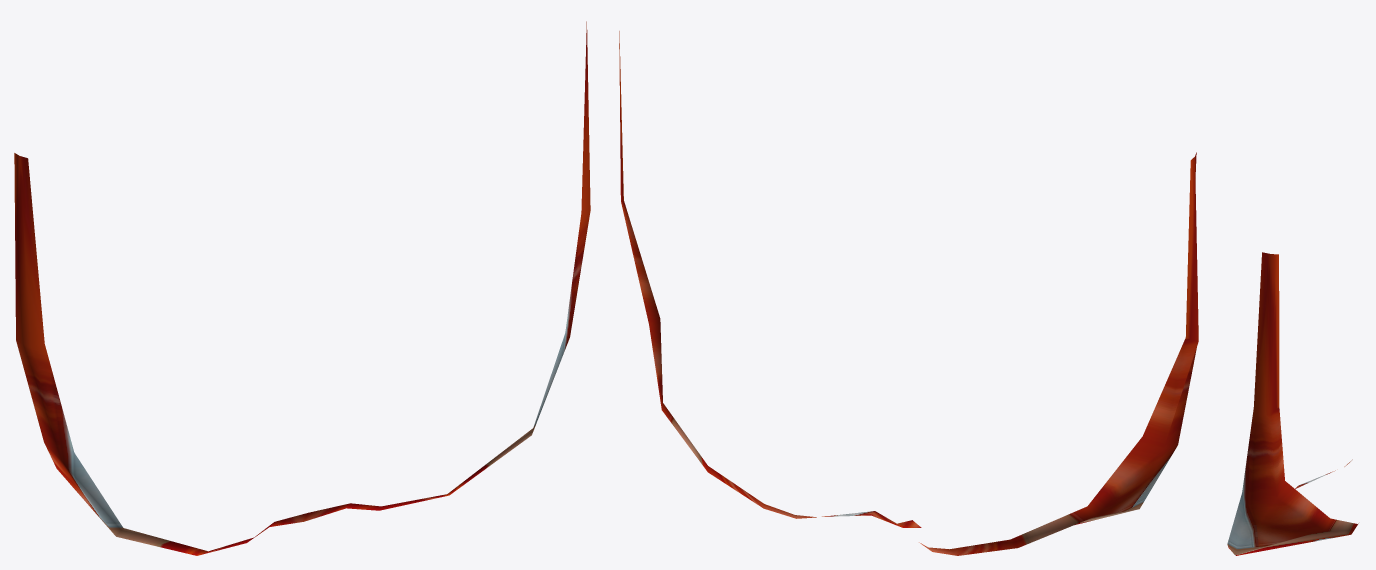
3 renders of one model, left to right at view 1: azimuth 30°, elevation 25°; view 2: azimuth 150°, elevation 25°; view 3: azimuth 270°, elevation 25°, orthographic. The views are drawn at different scales.
Parts seen in each view (by area): view 1: Root0; view 2: Root0; view 3: Root0.
Boxes of the visible parts, box(x1,y1,x2,y2) form: Root0: box(14, 21, 590, 555); Root0: box(619, 31, 1198, 555); Root0: box(1227, 252, 1358, 555).
Size of the model in its own units: 14.3 by 10.35 by 3.34.
Materials: 1 (1 with a texture image).
